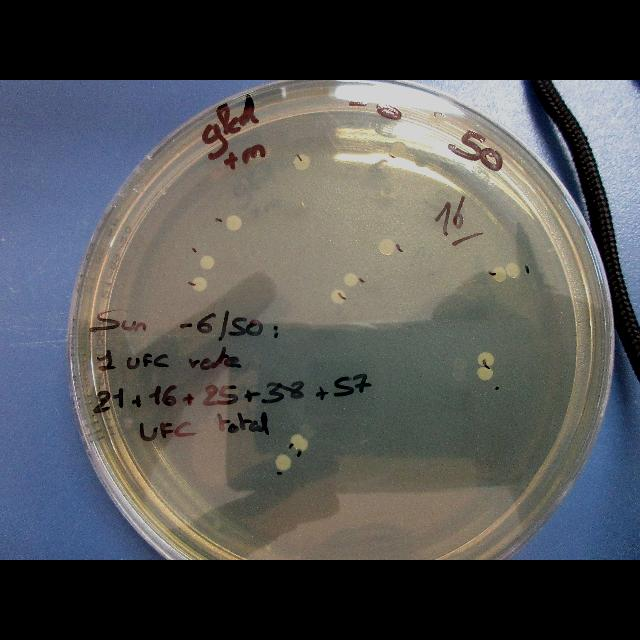colony: (290, 434, 309, 451), (478, 352, 495, 369), (389, 141, 406, 158), (189, 276, 208, 291), (379, 239, 396, 255), (275, 454, 291, 471), (226, 215, 242, 231), (294, 154, 310, 170), (490, 266, 506, 282), (505, 262, 520, 279), (478, 366, 494, 380), (331, 290, 346, 304), (200, 256, 215, 269), (344, 274, 358, 286)
